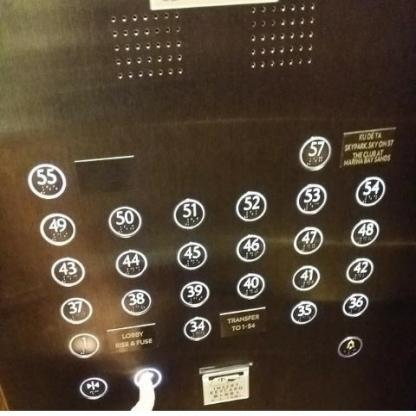1: (66, 330, 100, 358)
34: (181, 316, 210, 339)
35: (288, 300, 315, 324)
36: (340, 292, 368, 317)
37: (58, 295, 95, 323)
38: (119, 288, 151, 315)
39: (178, 279, 210, 306)
40: (235, 272, 264, 299)
41: (290, 264, 320, 290)
42: (343, 256, 374, 283)
43: (49, 256, 86, 286)
44: (114, 248, 148, 278)
45: (176, 240, 206, 270)
46: (234, 233, 265, 261)
47: (291, 225, 323, 256)
48: (348, 217, 378, 246)
49: (39, 212, 76, 245)
50: (107, 205, 141, 239)
51: (170, 197, 204, 229)
52: (234, 190, 267, 222)
53: (294, 182, 326, 214)
54: (354, 175, 386, 206)
55: (27, 162, 66, 200)
57: (299, 135, 330, 171)
alarm: (336, 334, 363, 358)
close: (78, 376, 108, 400)
